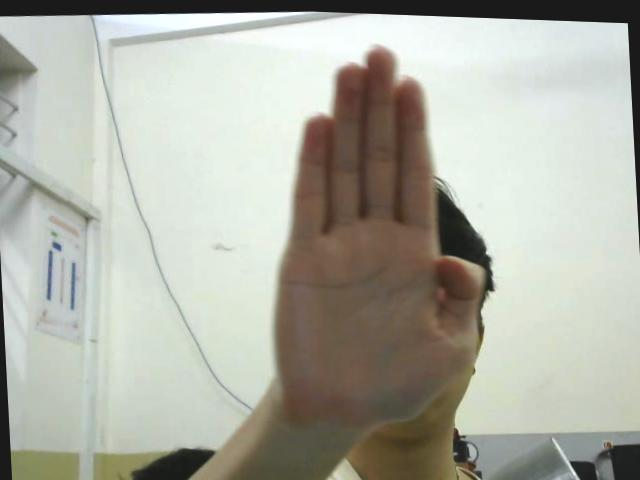B: (256, 35, 488, 431)
